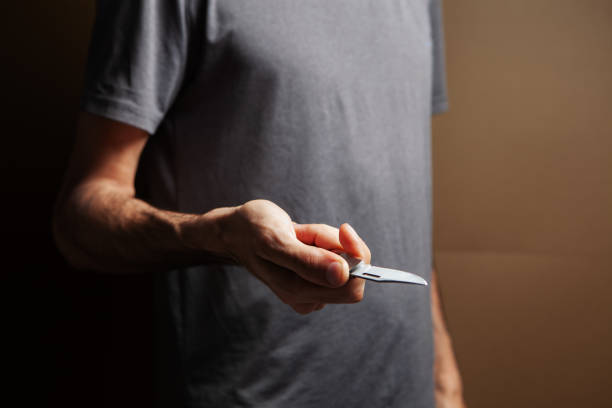knife: (331, 250, 429, 288)
